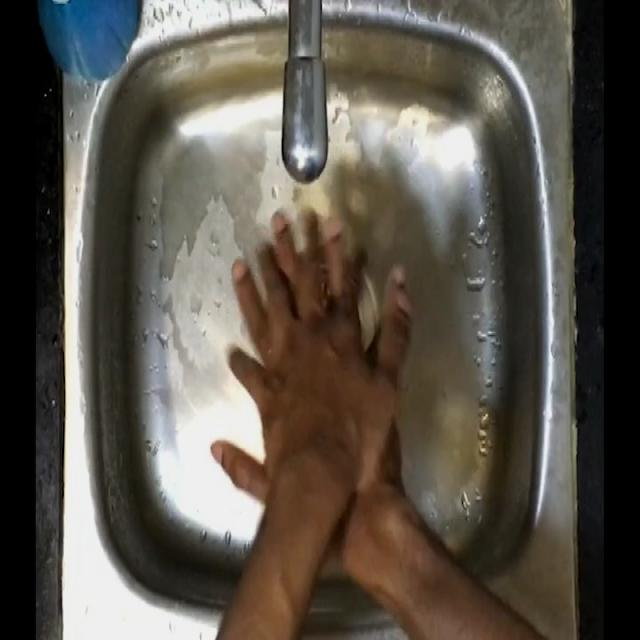step_2: (207, 200, 421, 513)
